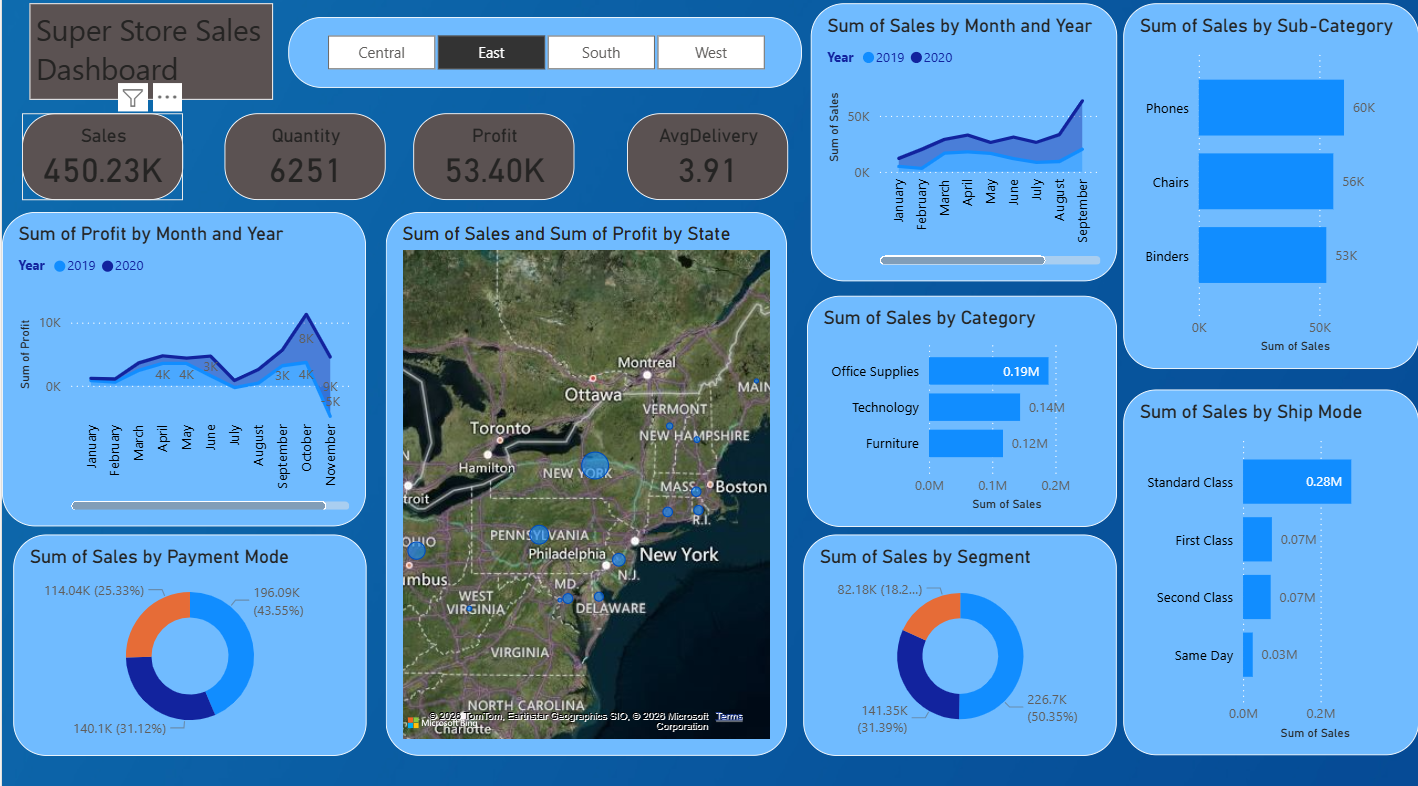

The dashboard page shown, as its layout file describes it:
{"tool":"powerbi","page":{"name":"Page 1","canvas":[1280,720],"ordinal":0},"visuals":[{"type":"clusteredBarChart","fields":{"Category":["Sheet1.Category"],"Y":["Sum(Sheet1.Sales)"]},"box":[726.7,274.4,280,208.9],"z":0},{"type":"clusteredBarChart","fields":{"Category":["Sheet1.Sub-Category"],"Y":["Sum(Sheet1.Sales)"]},"box":[1012.7,9.6,267.6,330.7],"z":1000},{"type":"clusteredBarChart","fields":{"Y":["Sum(Sheet1.Sales)"],"Category":["Sheet1.Ship Mode"]},"box":[1012.7,359.5,267.6,330.7],"z":2000},{"type":"stackedAreaChart","fields":{"Category":["Sheet1.Order Date.Variation.Date Hierarchy.Month"],"Series":["Sheet1.Order Date.Variation.Date Hierarchy.Year"],"Y":["Sum(Sheet1.Profit)"]},"box":[0,198.6,328.6,284.3],"z":3000},{"type":"stackedAreaChart","fields":{"Category":["Sheet1.Order Date.Variation.Date Hierarchy.Month"],"Y":["Sum(Sheet1.Sales)"],"Series":["Sheet1.Order Date.Variation.Date Hierarchy.Year"]},"box":[730,10,276.7,251.1],"z":4000},{"type":"map","fields":{"Category":["Sheet1.State"],"Size":["Sum(Sheet1.Sales)"]},"box":[347.2,199,362.3,491.3],"z":5000},{"type":"donutChart","fields":{"Category":["Sheet1.Segment"],"Y":["Sum(Sheet1.Sales)"]},"box":[723.3,490,283.3,200],"z":6000},{"type":"donutChart","fields":{"Category":["Sheet1.Payment Mode"],"Y":["Sum(Sheet1.Sales)"]},"box":[10,490,318.9,200],"z":7000},{"type":"slicer","fields":{"Values":["Sheet1.Region"]},"box":[258.6,22.9,464.3,64.3],"z":8000},{"type":"textbox","box":[24.3,10,220,87.1],"z":9000},{"type":"card","title":"Sales","fields":{"Values":["Sum(Sheet1.Sales)"]},"box":[18.6,110,145.7,78.6],"z":10000},{"type":"card","title":"Quantity","fields":{"Values":["Sum(Sheet1.Quantity)"]},"box":[201.4,110,145.7,78.6],"z":11000},{"type":"card","title":"Profit","fields":{"Values":["Sum(Sheet1.Profit)"]},"box":[371.4,110,145.7,78.6],"z":12000},{"type":"card","title":"AvgDelivery","fields":{"Values":["Avg(Sheet1.AvgDelivery)"]},"box":[564.3,110,145.7,78.6],"z":13000}]}

Visuals, with their boxes in screenshot pixels (x1, y1, x2, y2), scaled from the page's 1280x720 canvas onto the 1418x786 screenshot:
clusteredBarChart - Sheet1.Category x Sum(Sheet1.Sales): crop(805, 300, 1115, 528)
clusteredBarChart - Sheet1.Sub-Category x Sum(Sheet1.Sales): crop(1122, 10, 1417, 371)
clusteredBarChart - Sum(Sheet1.Sales) x Sheet1.Ship Mode: crop(1122, 392, 1417, 753)
stackedAreaChart - Sheet1.Order Date.Variation.Date Hierarchy.Month x Sheet1.Order Date.Variation.Date Hierarchy.Year: crop(0, 217, 364, 527)
stackedAreaChart - Sheet1.Order Date.Variation.Date Hierarchy.Month x Sum(Sheet1.Sales): crop(809, 11, 1115, 285)
map - Sheet1.State x Sum(Sheet1.Sales): crop(385, 217, 786, 754)
donutChart - Sheet1.Segment x Sum(Sheet1.Sales): crop(801, 535, 1115, 753)
donutChart - Sheet1.Payment Mode x Sum(Sheet1.Sales): crop(11, 535, 364, 753)
slicer - Sheet1.Region: crop(286, 25, 801, 95)
textbox: crop(27, 11, 271, 106)
"Sales" card: crop(21, 120, 182, 206)
"Quantity" card: crop(223, 120, 385, 206)
"Profit" card: crop(411, 120, 573, 206)
"AvgDelivery" card: crop(625, 120, 787, 206)
